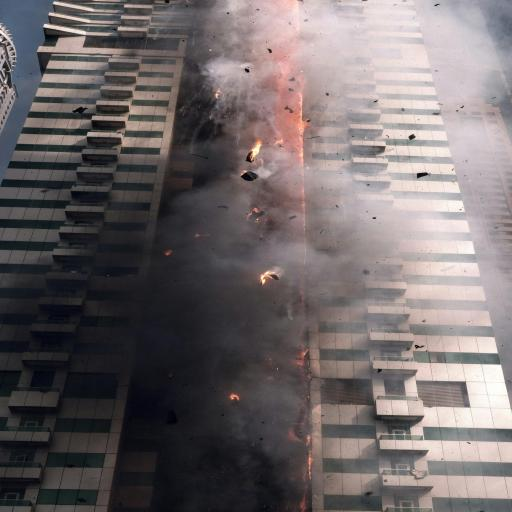buildingfire: (40, 0, 504, 502)
smoke: (107, 189, 329, 427)
